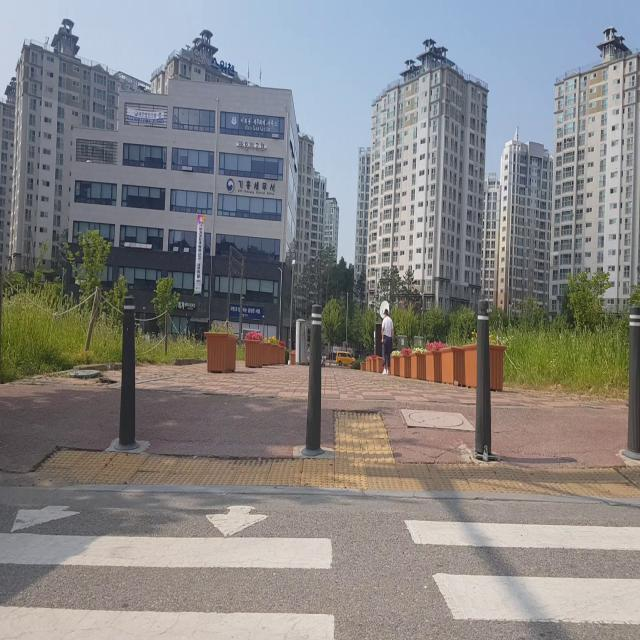횡단보도: (0, 502, 640, 640)
